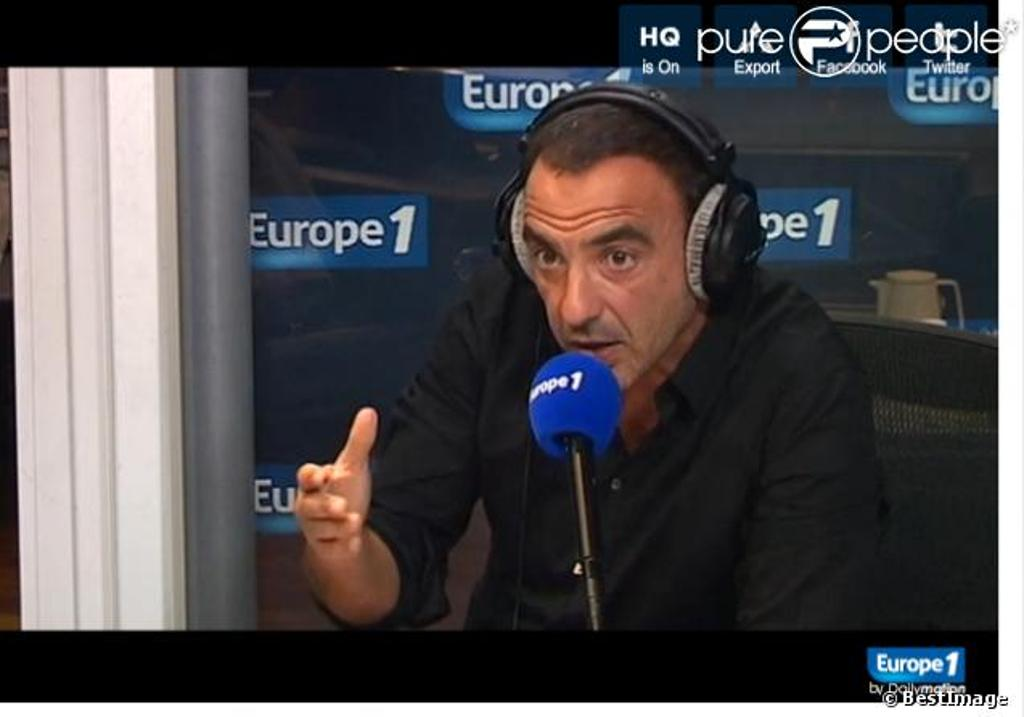face: (524, 160, 696, 396)
